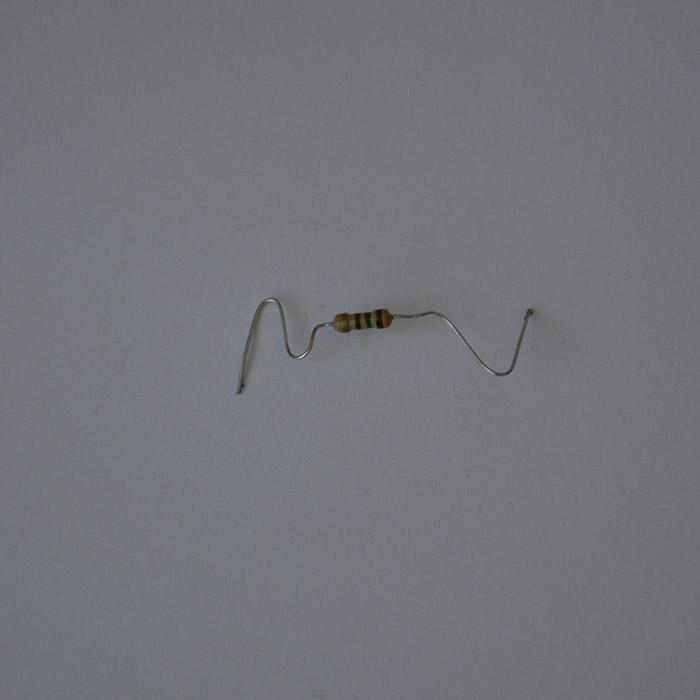resistor: (331, 308, 392, 332)
